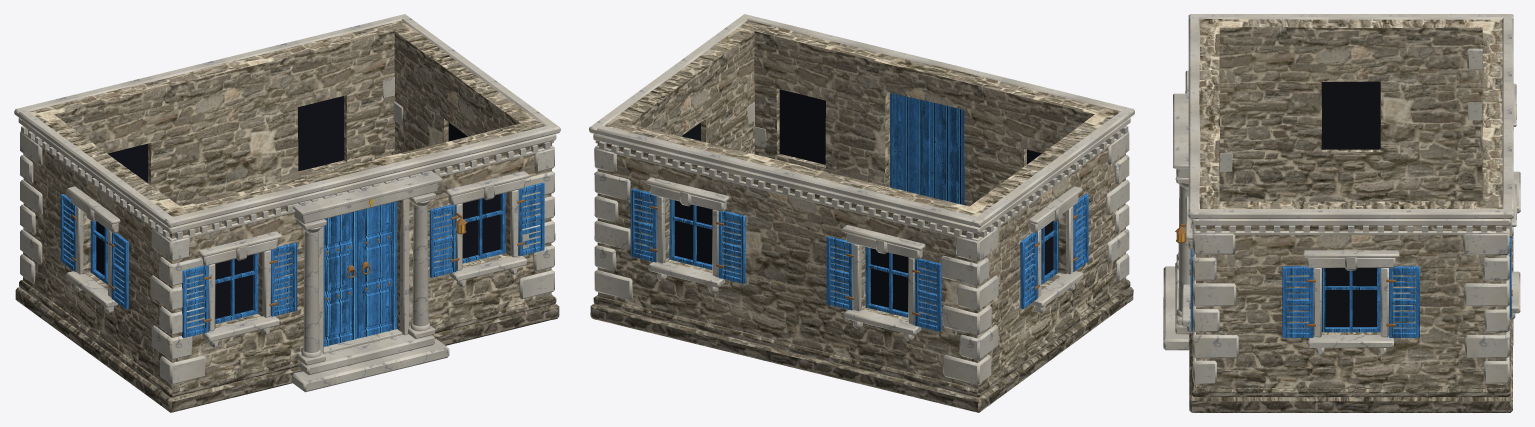
The model's file is home_villa-walls_t1_stone.blender.glb.
3 views of the same model, side by side, from view 1: azimuth 30°, elevation 25°; view 2: azimuth 150°, elevation 25°; view 3: azimuth 270°, elevation 25° (orthographic). The views are drawn at different scales.
Visible parts, largest first — view 1: stone, trim, azure_wood, stone_base, interior, bronze; view 2: stone, trim, azure_wood, stone_base, interior; view 3: stone, trim, stone_base, interior, azure_wood, bronze.
Part boxes in pixels (<box>): stone: <box>23,20,551,388</box>; trim: <box>14,14,560,392</box>; azure_wood: <box>60,182,544,346</box>; stone_base: <box>15,279,559,412</box>; interior: <box>96,96,500,318</box>; bronze: <box>71,199,525,322</box>; stone: <box>597,20,1126,388</box>; trim: <box>589,14,1134,384</box>; azure_wood: <box>630,93,1088,331</box>; stone_base: <box>590,279,1133,412</box>; interior: <box>674,89,1053,312</box>; stone: <box>1195,19,1506,388</box>; trim: <box>1163,14,1520,383</box>; stone_base: <box>1189,236,1513,412</box>; interior: <box>1321,81,1380,326</box>; azure_wood: <box>1190,236,1511,337</box>; bronze: <box>1175,224,1512,326</box>.
Bounding box in the file's own units: 6.58 × 3.01 × 4.83.
Materials: 8 (4 with a texture image).
